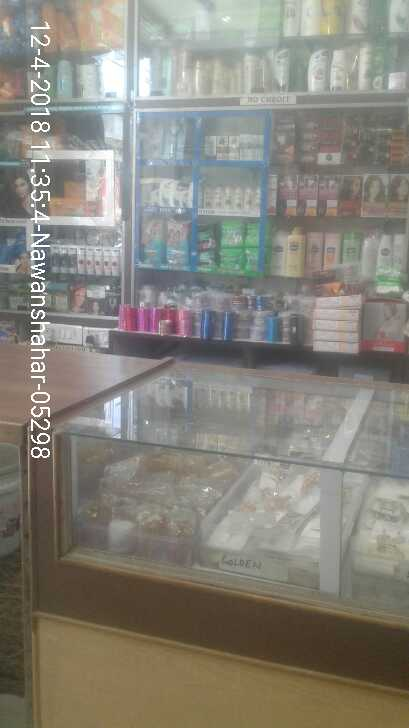venus: (163, 117, 186, 160)
